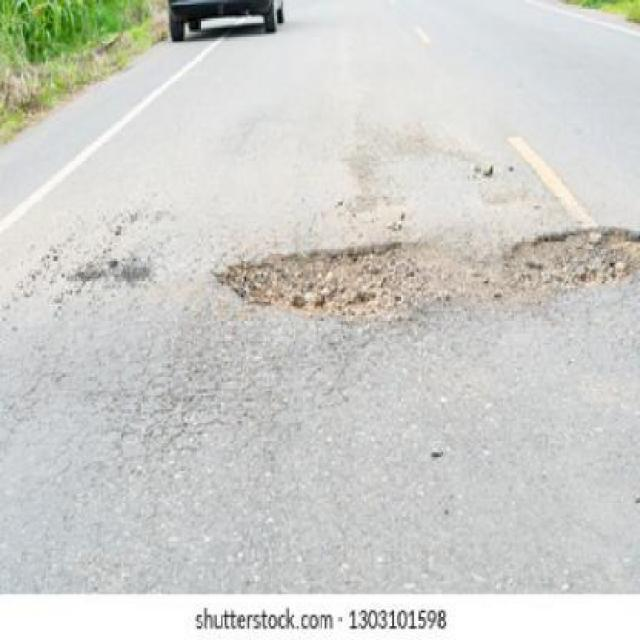Buraco: (208, 222, 640, 326)
